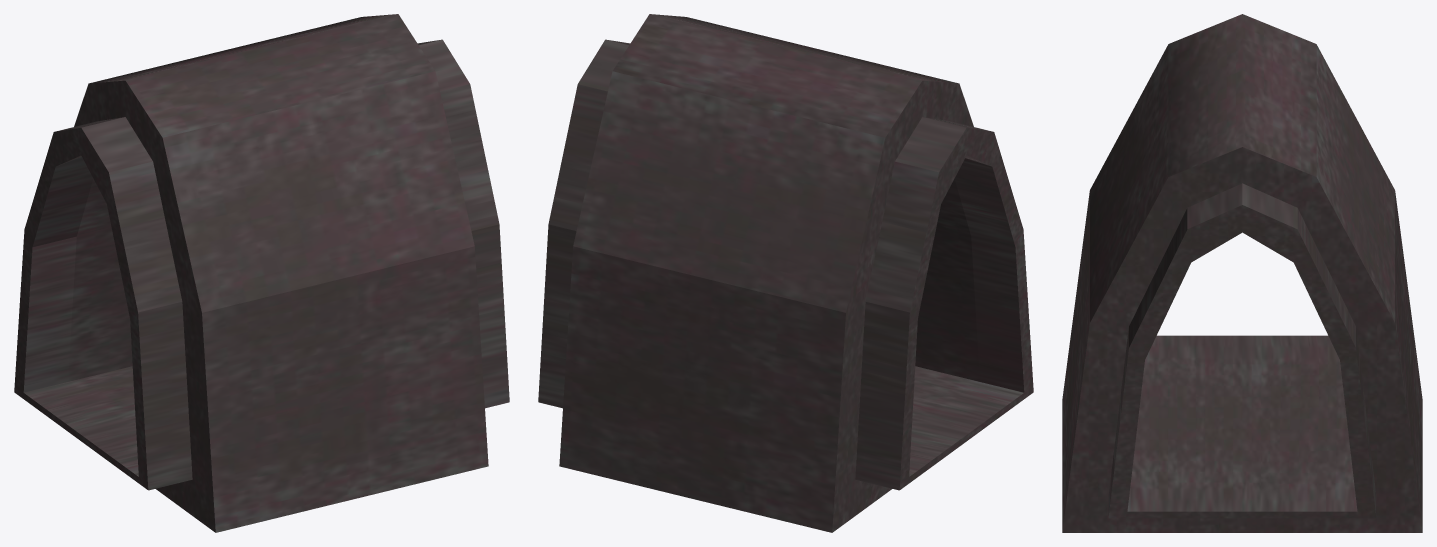
Rendered from Castle_Window.fbx.
The picture shows the model from 3 angles, left to right: view 1: azimuth 30°, elevation 25°; view 2: azimuth 150°, elevation 25°; view 3: azimuth 270°, elevation 25°; orthographic projection.
Visible parts, largest first — view 1: L_Window2; view 2: L_Window2; view 3: L_Window2.
Boxes of the visible parts, x1=… form: L_Window2: x1=14, y1=14, x2=509, y2=532; L_Window2: x1=538, y1=14, x2=1033, y2=532; L_Window2: x1=1062, y1=14, x2=1422, y2=532.
Size of the model in its own units: 0.0362 by 0.037 by 0.0313.
